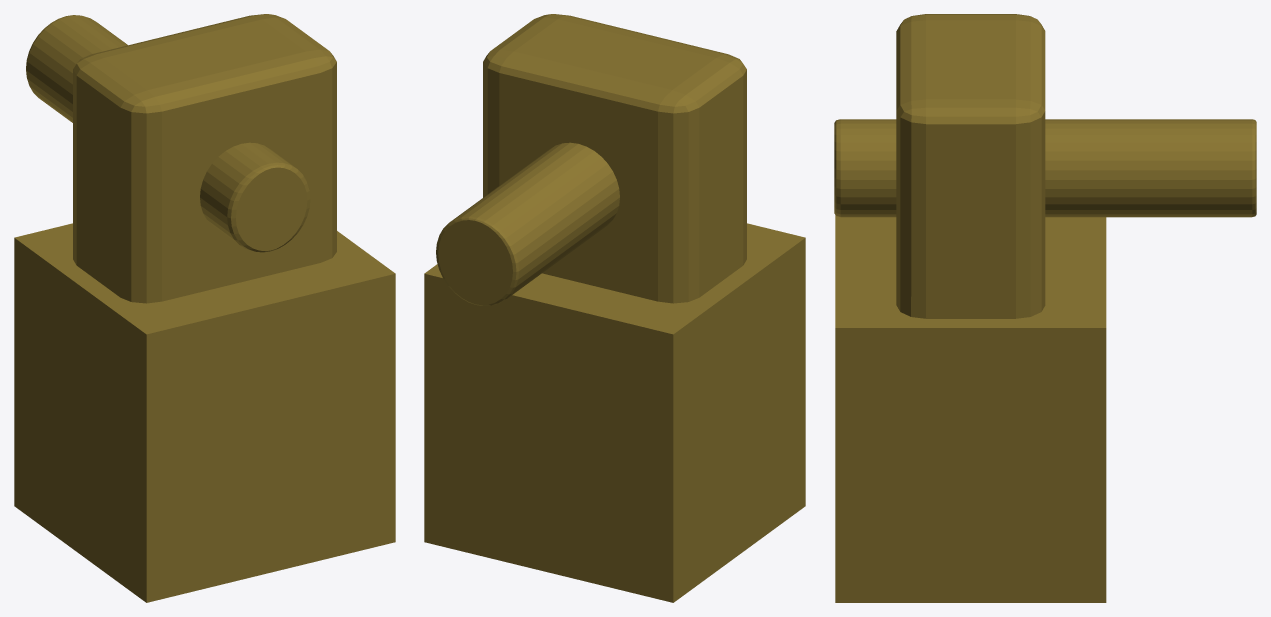
File: Начало провода на секции.fbx
3 renders of one model, left to right at view 1: azimuth 30°, elevation 25°; view 2: azimuth 150°, elevation 25°; view 3: azimuth 270°, elevation 25°, orthographic. The views are drawn at different scales.
Parts seen in each view (by area): view 1: Cube.001; view 2: Cube.001; view 3: Cube.001.
Boxes of the visible parts, x1,y1,x2,y2 form: Cube.001: (14,14,395,602); Cube.001: (424,14,805,602); Cube.001: (834,14,1256,602).
Size of the model in its own units: 2.3 by 4.14 by 3.29.
